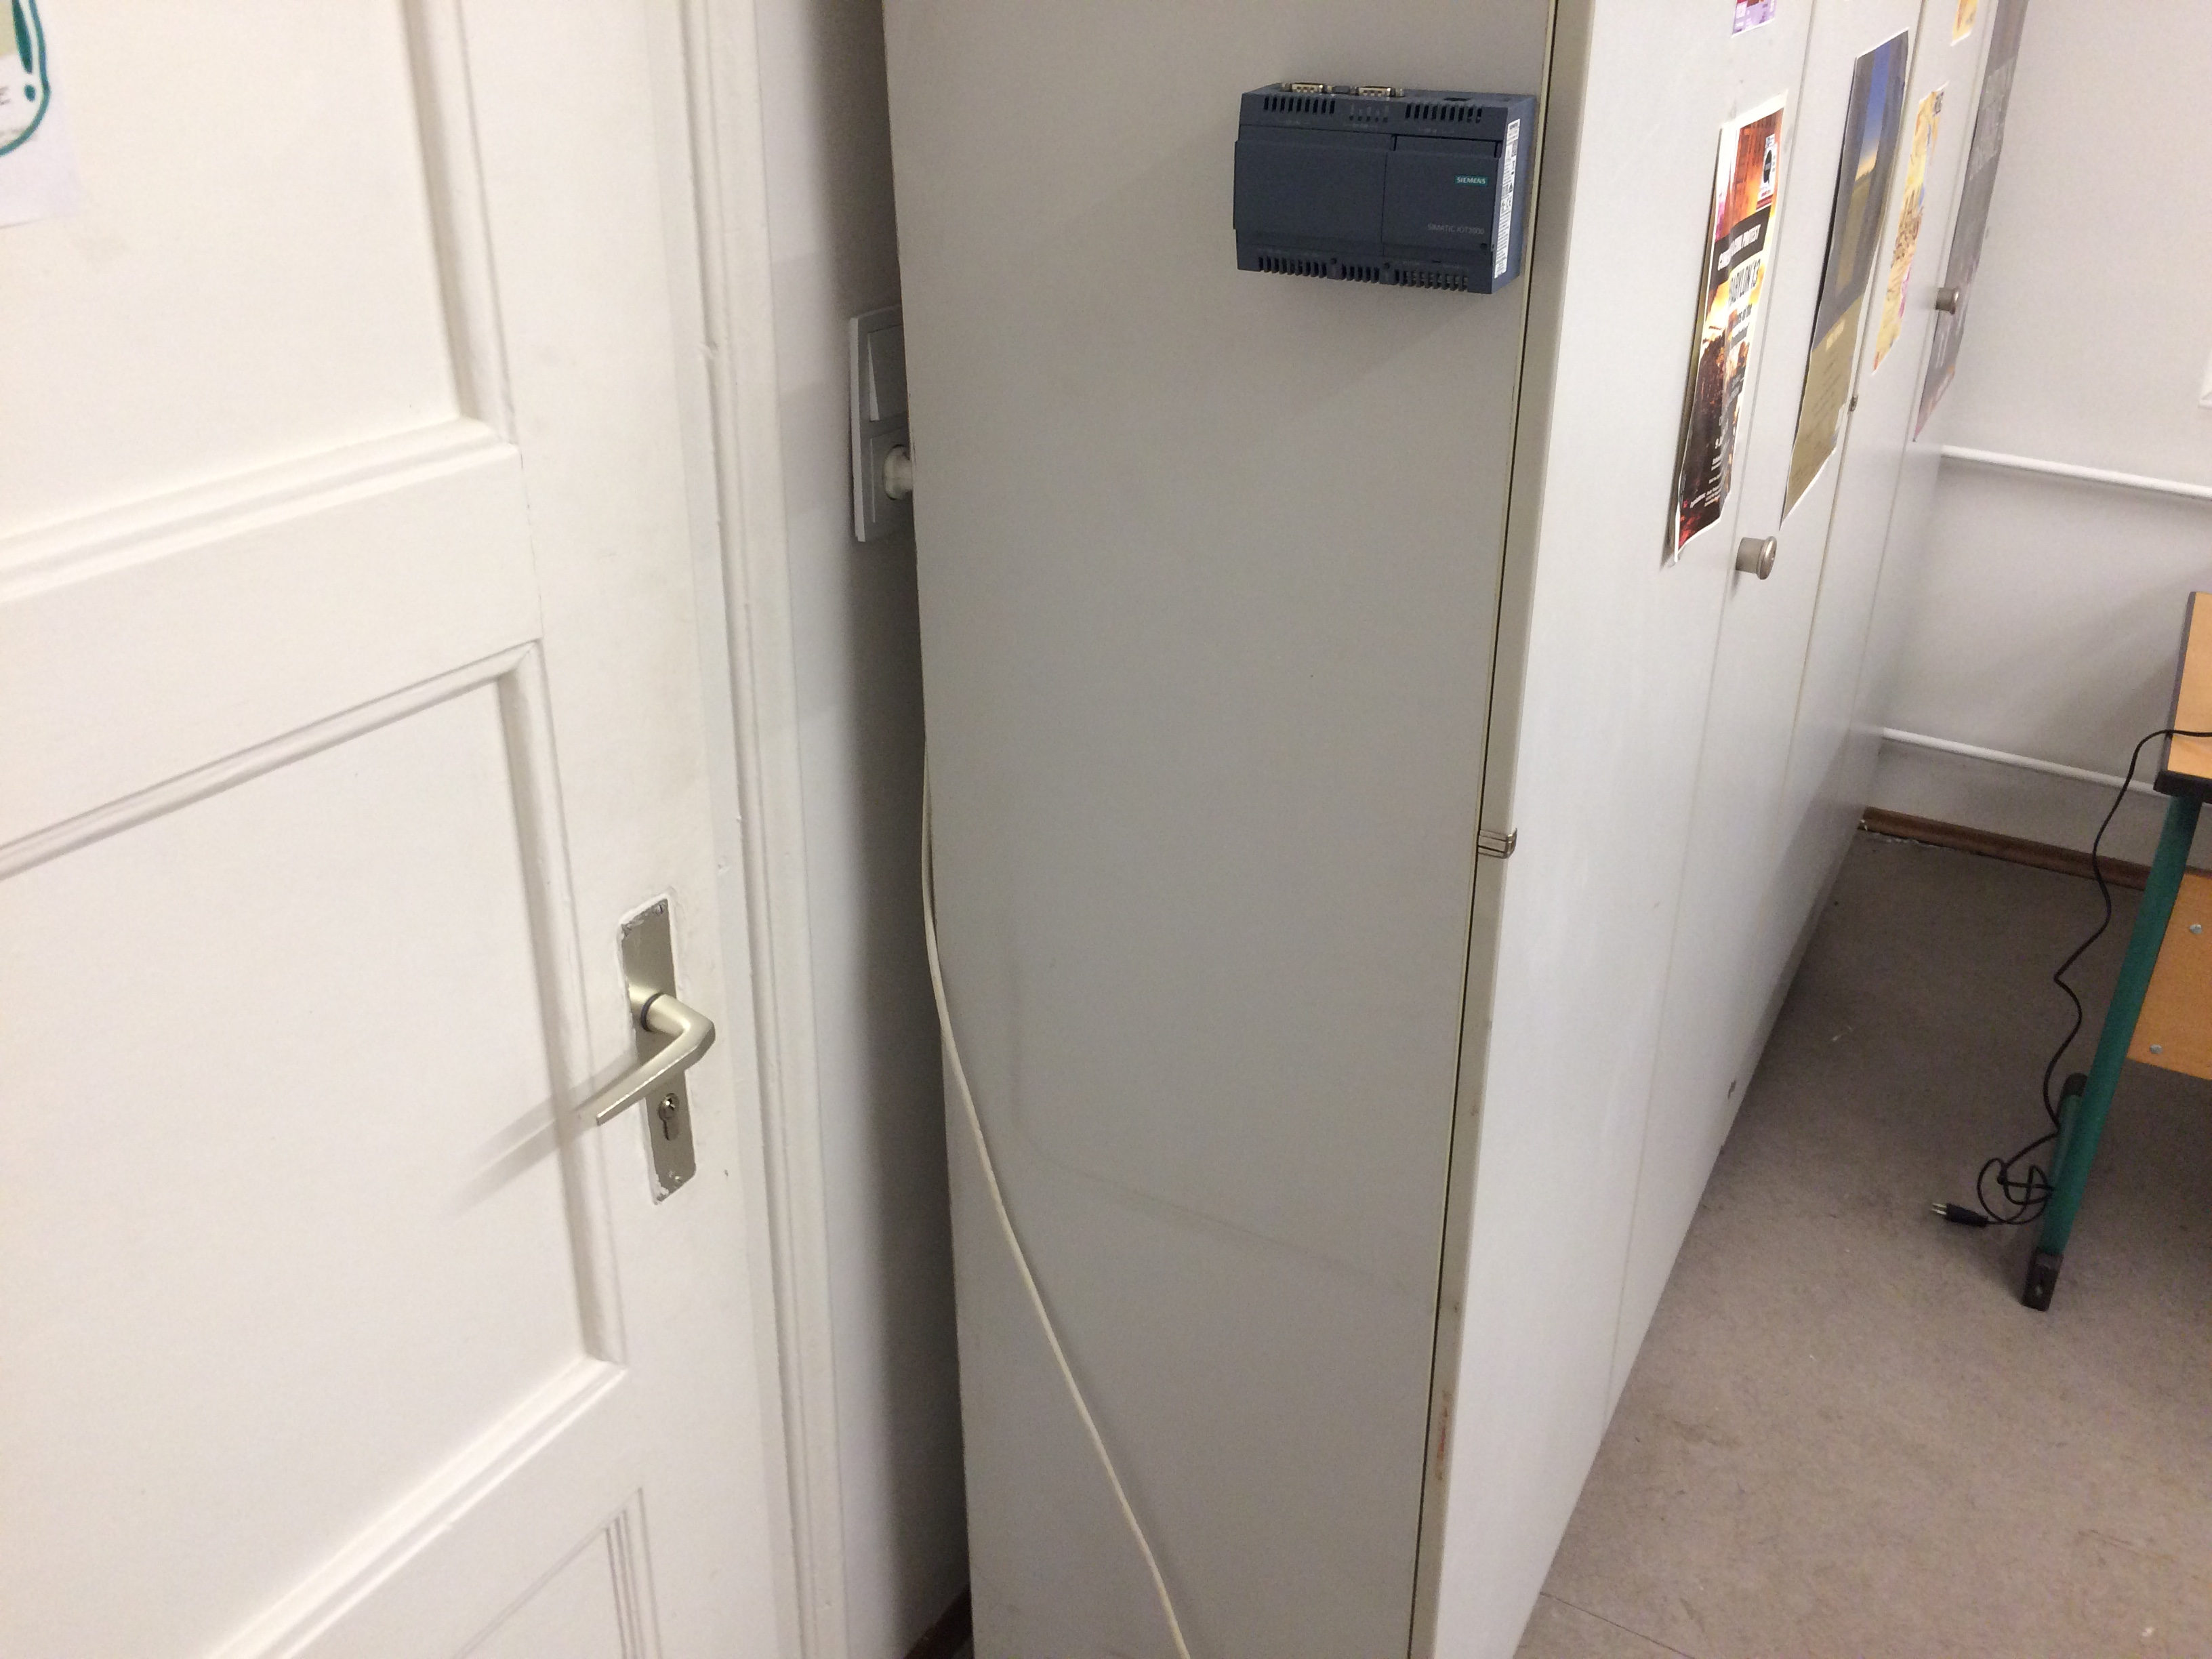iot2000: (1231, 78, 1540, 298)
